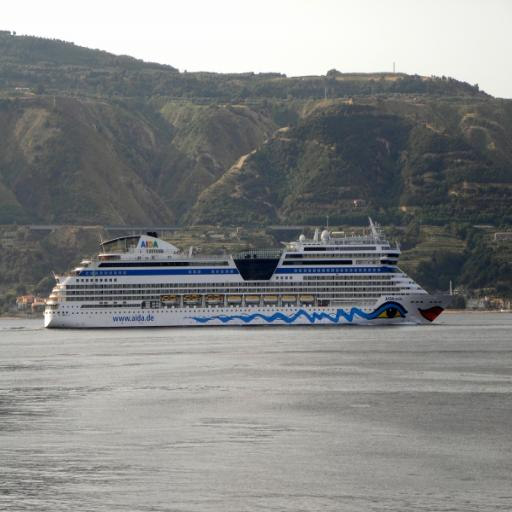cruises: (47, 216, 459, 334)
